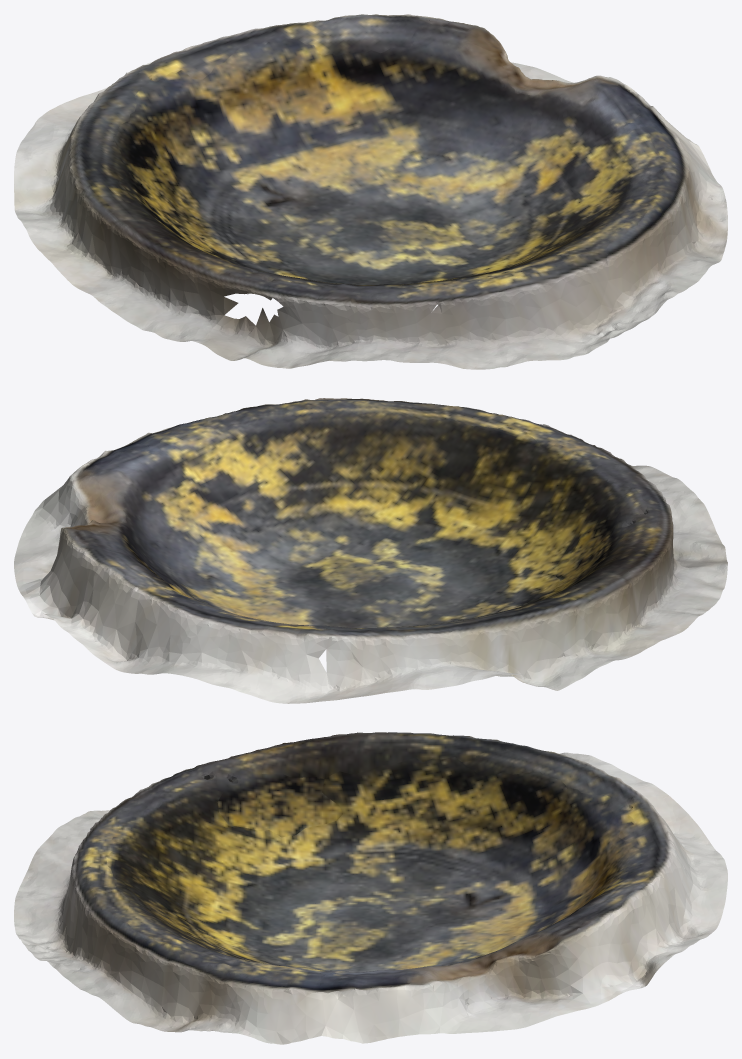
File: kinpakuhazikidou.glb
3 renders of one model, top to bottom at view 1: azimuth 30°, elevation 25°; view 2: azimuth 150°, elevation 25°; view 3: azimuth 270°, elevation 25°, orthographic. The views are drawn at different scales.
Visible parts, largest first — view 1: mesh; view 2: mesh; view 3: mesh.
Boxes of the visible parts, x1,y1,x2,y2 form: mesh: (14, 14, 727, 369); mesh: (14, 398, 727, 703); mesh: (14, 732, 727, 1044).
Bounding box in the file's own units: 0.1738 × 0.025 × 0.1818.
Materials: 1 (1 with a texture image).
